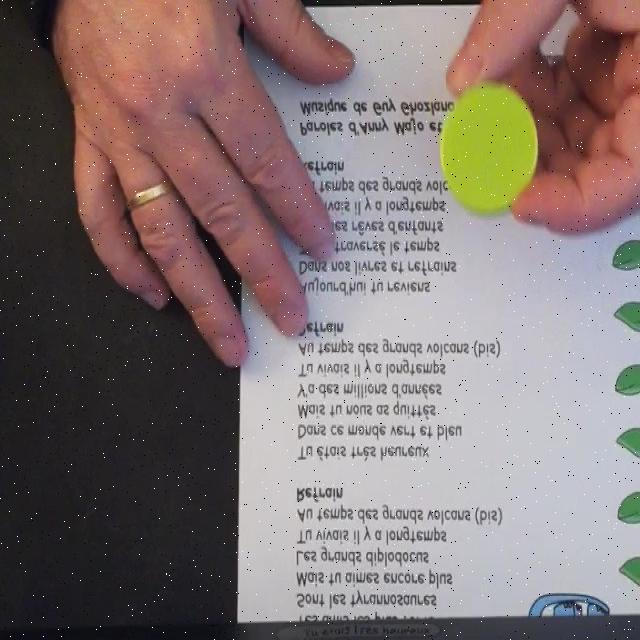hexagon: (438, 80, 540, 217)
